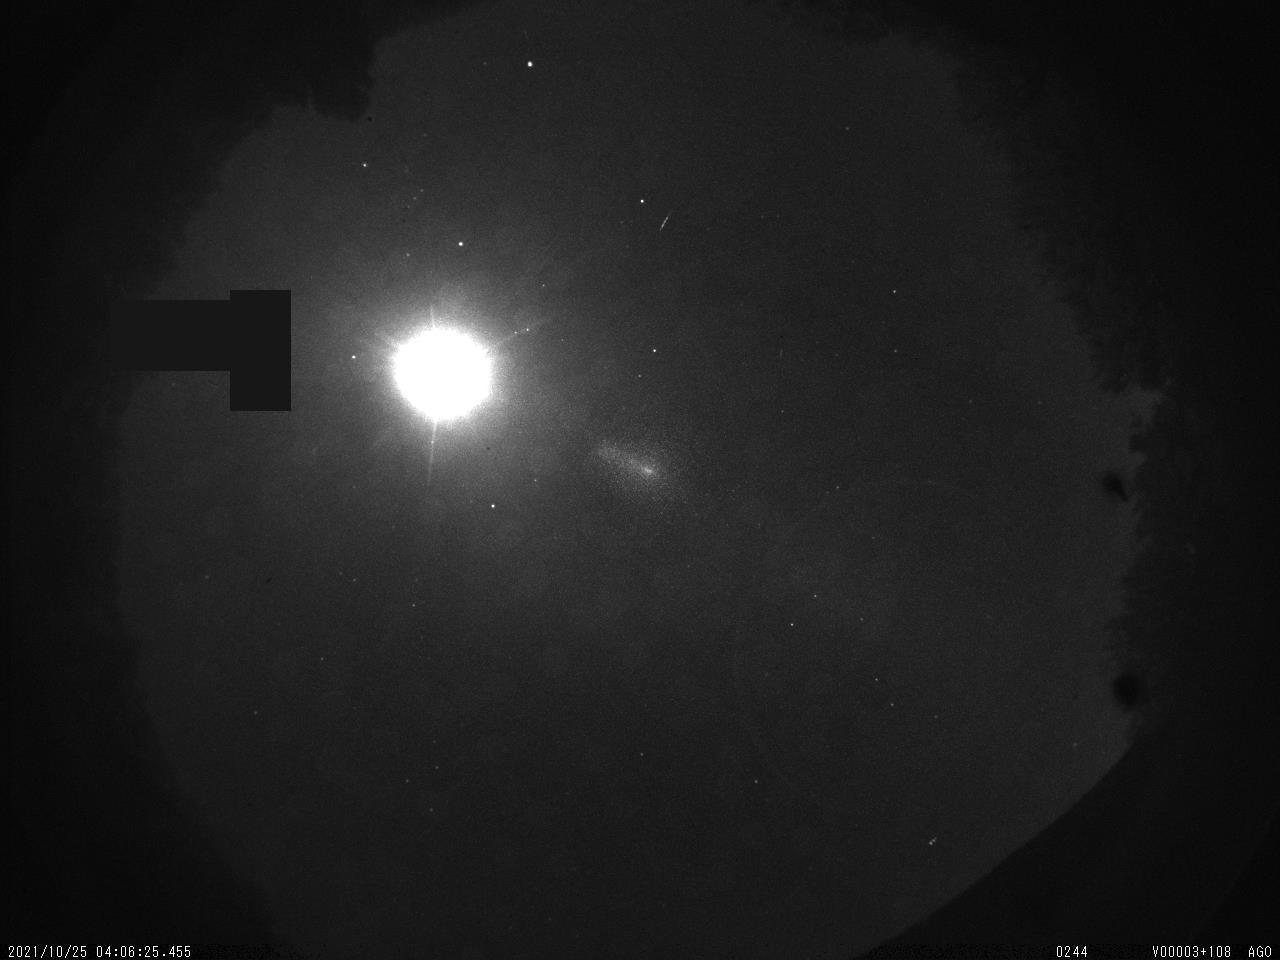meteor: (652, 210, 679, 237)
